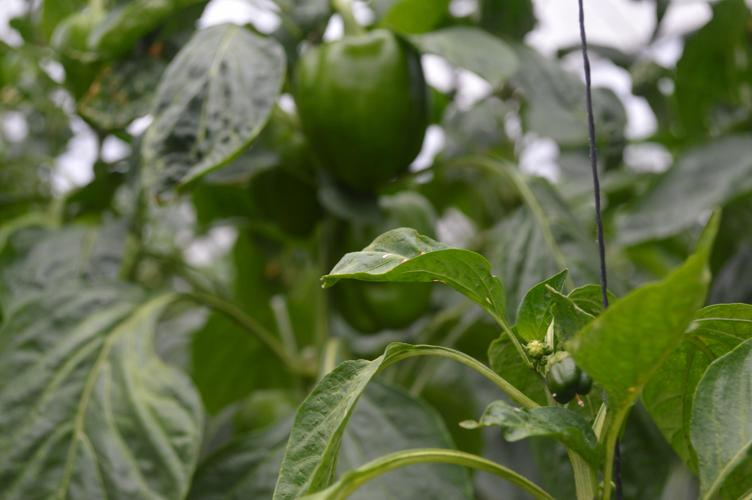BellPepper: (283, 31, 425, 193), (327, 273, 429, 336)
